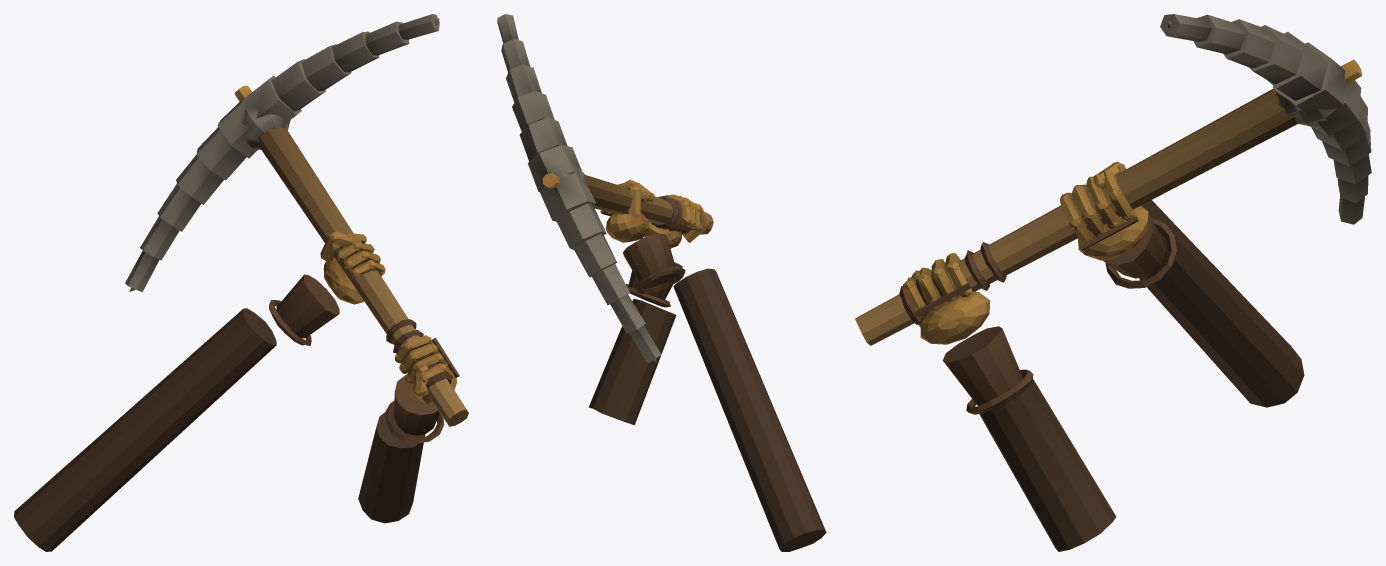
File: tool_pickaxe.glb
3 views of the same model, side by side, from view 1: azimuth 30°, elevation 25°; view 2: azimuth 150°, elevation 25°; view 3: azimuth 270°, elevation 25° (orthographic). The views are drawn at different scales.
Parts seen in each view (by area): view 1: GloveL, Pickaxe, GloveR; view 2: GloveL, Pickaxe, GloveR; view 3: Pickaxe, GloveR, GloveL.
Part boxes in pixels (x1,y1,x2,y2): GloveL: (14, 231, 385, 551); Pickaxe: (125, 14, 468, 426); GloveR: (358, 335, 459, 523); GloveL: (600, 179, 826, 551); Pickaxe: (497, 14, 713, 362); GloveR: (589, 194, 709, 424); Pickaxe: (855, 14, 1371, 345); GloveR: (903, 252, 1116, 551); GloveL: (1060, 161, 1304, 407).
Bounding box in the file's own units: 0.7727 × 0.9027 × 0.6916.
